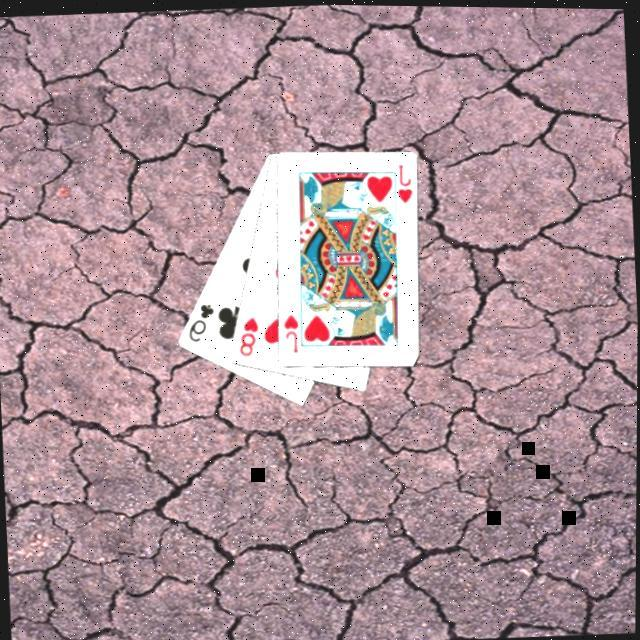6C: (183, 297, 217, 343)
8H: (234, 310, 262, 357)
JH: (279, 308, 301, 353), (392, 159, 414, 204)
